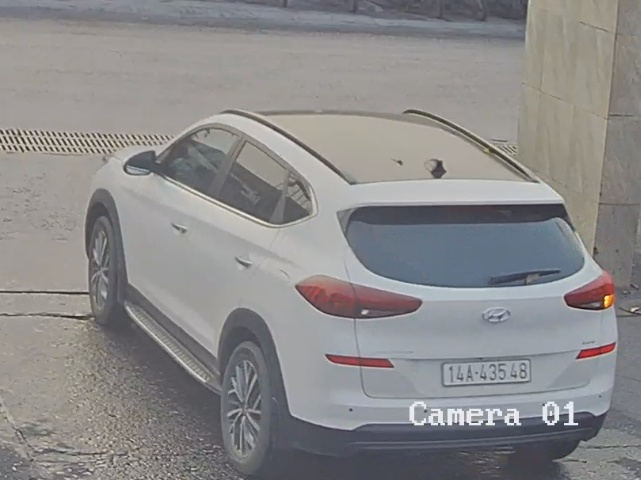vehicle plate: (438, 357, 537, 384)
